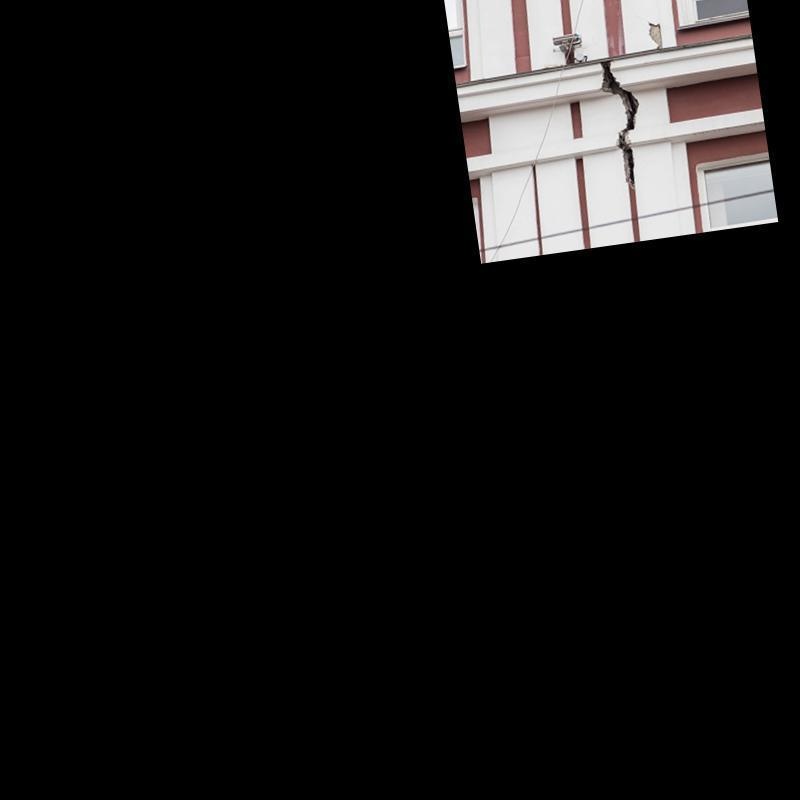pothole: (600, 59, 641, 187)
